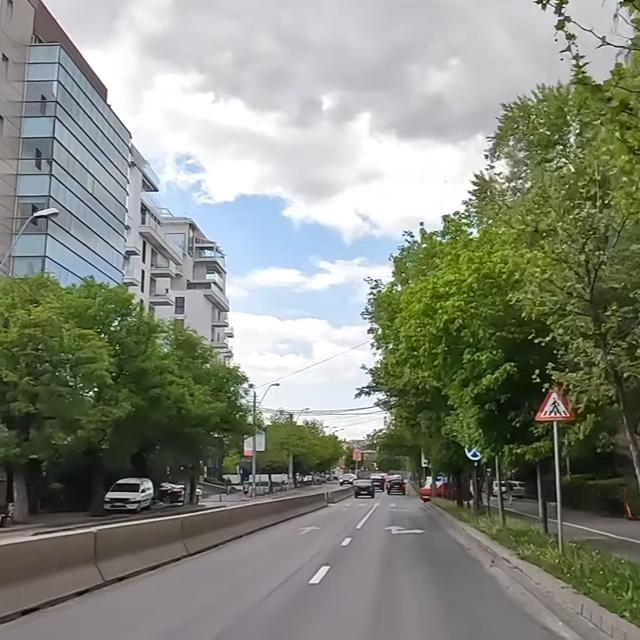warn_crosswalk: (534, 387, 573, 421)
